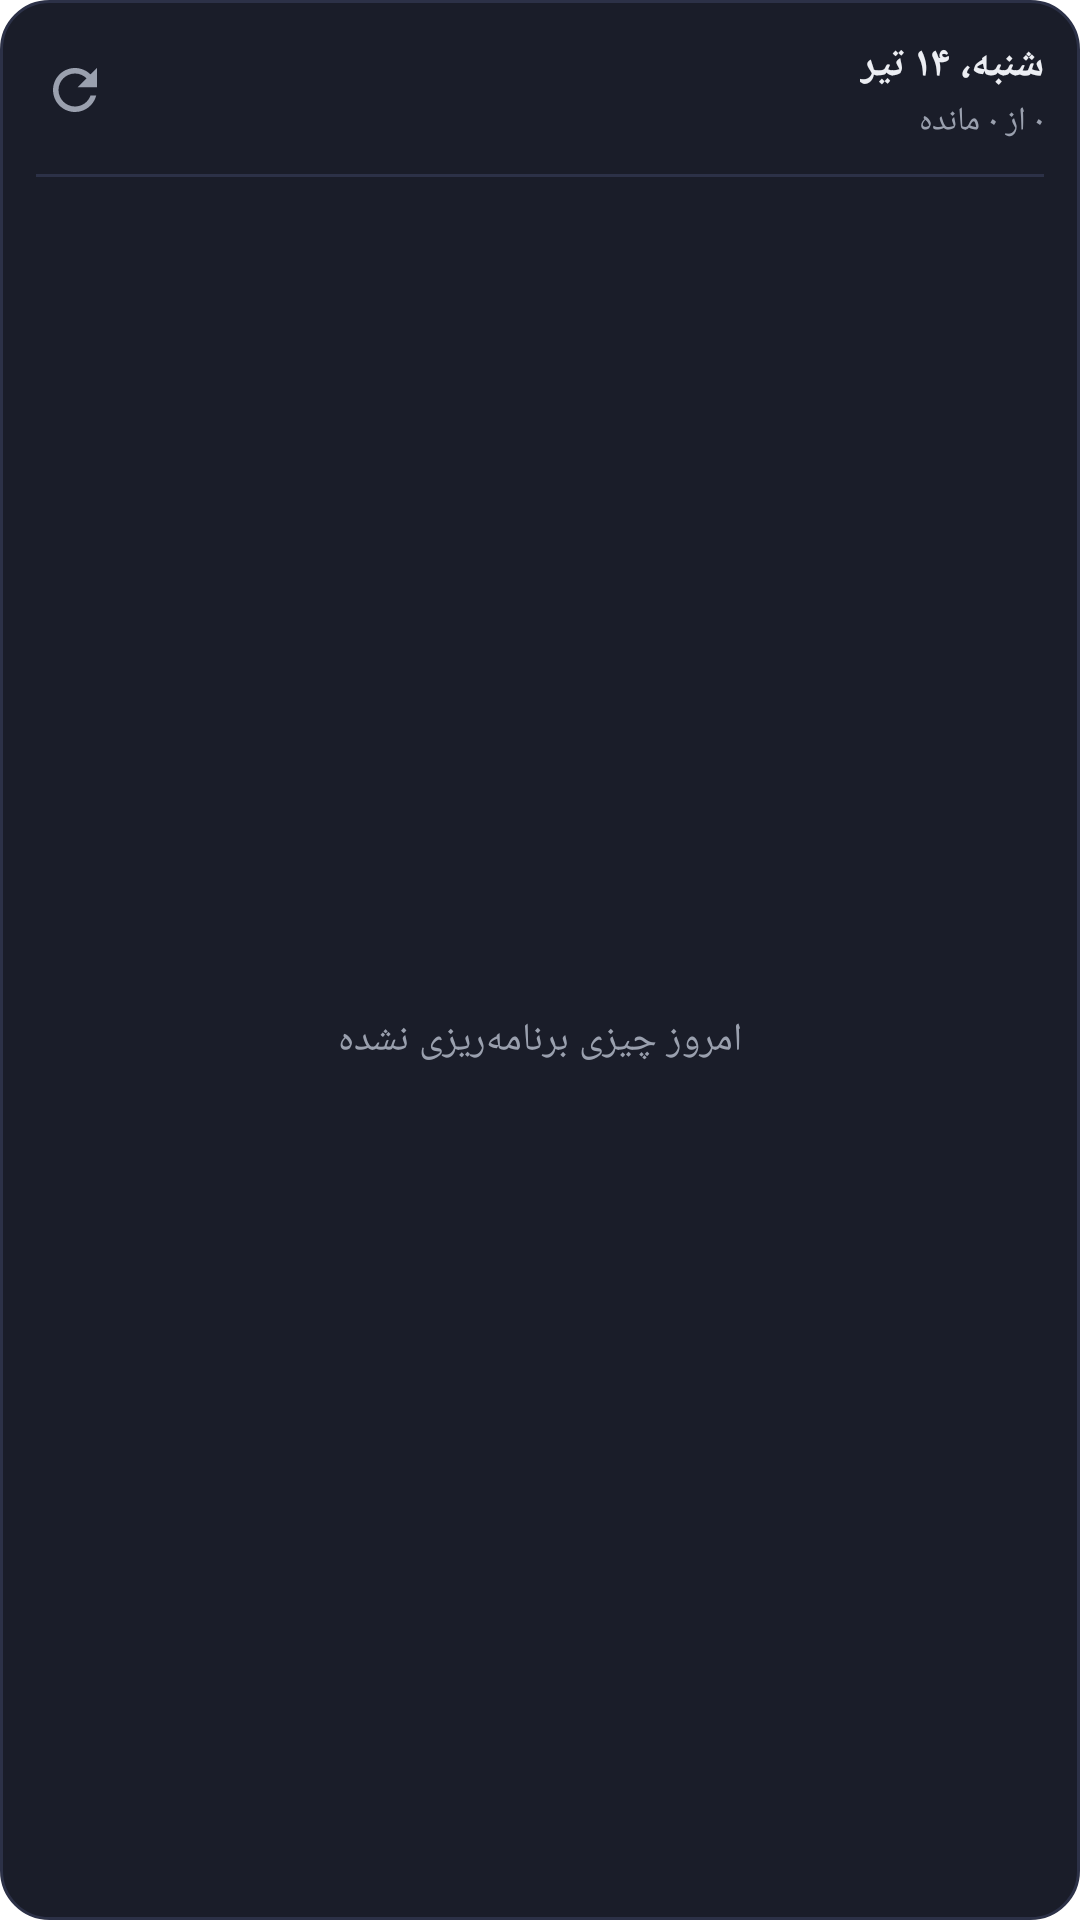

Icon click points for this 1080×1920 phone screenshot, format point (x, y):
بروزرسانی: point (75, 90)
